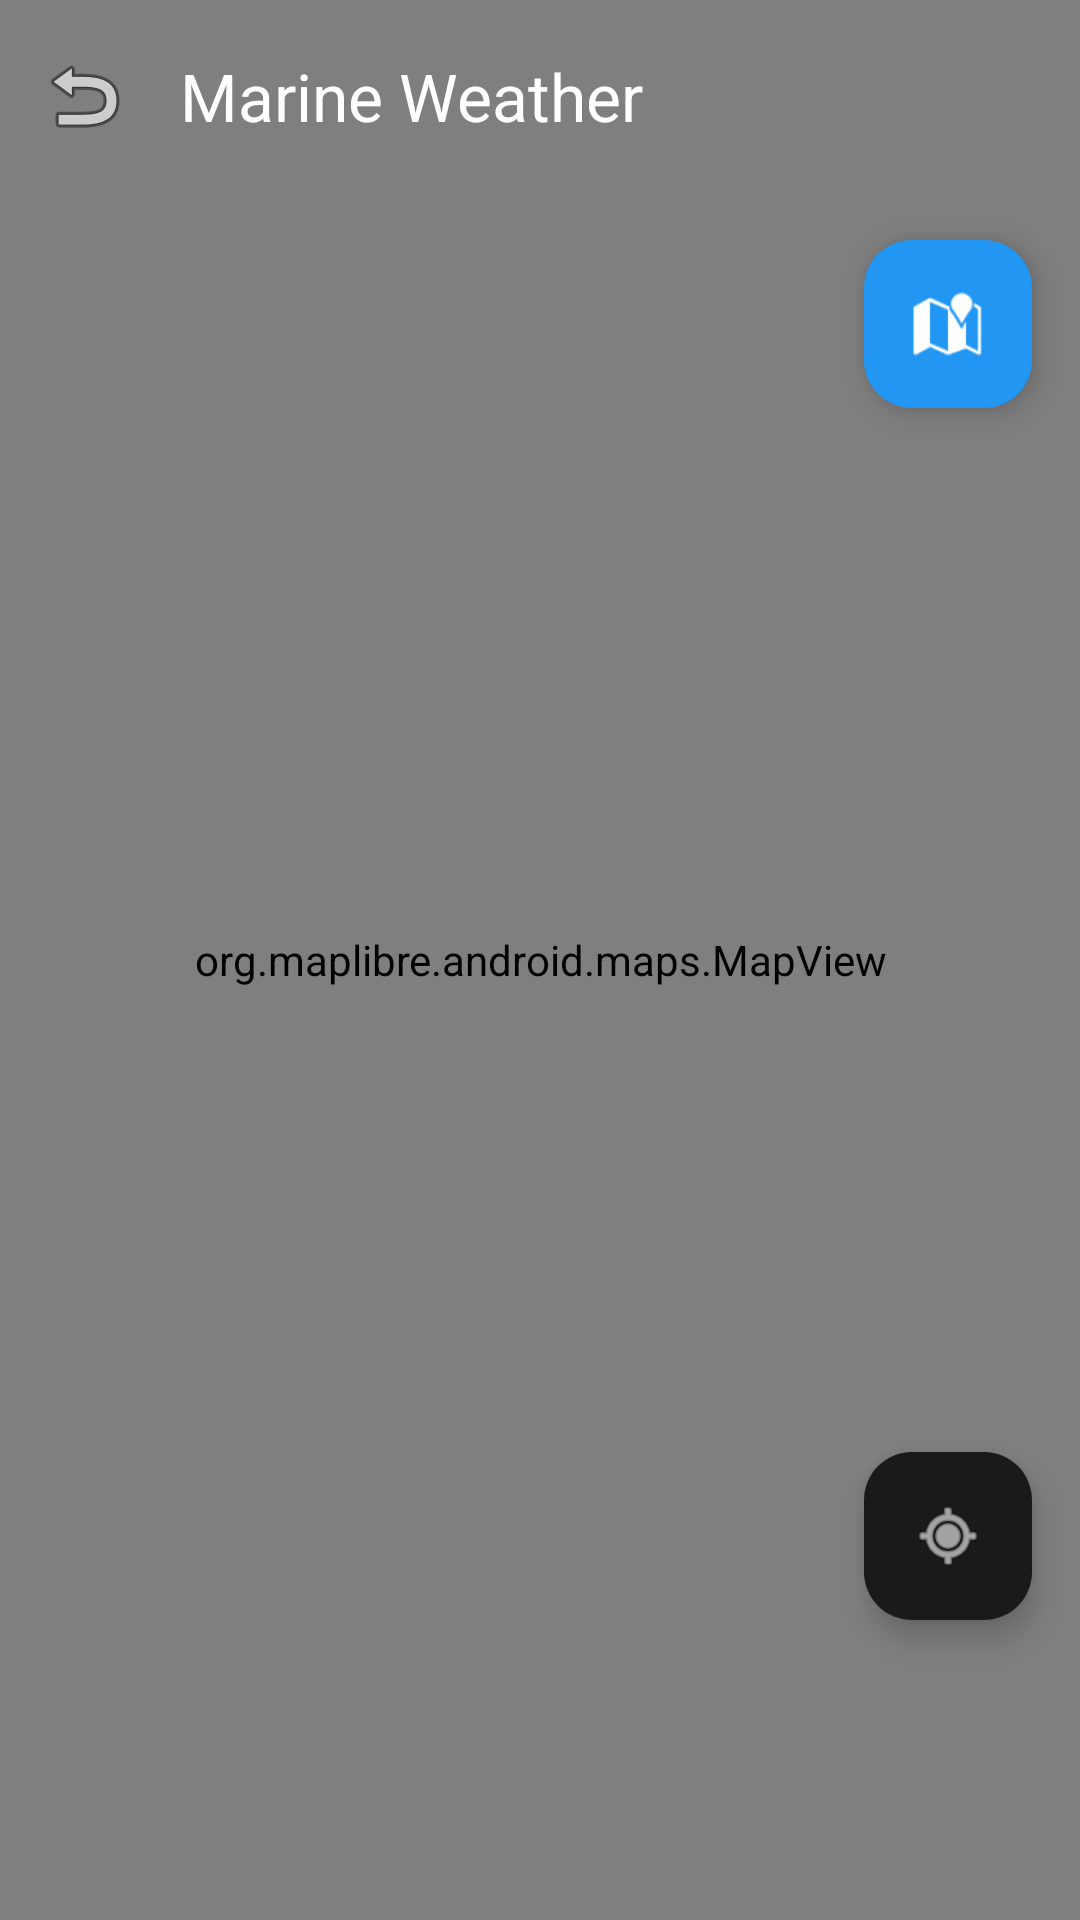

Named icons in this screenshot (1080*1920) and their bounding boxes, (x1, y1, x2, y2):
Layer Switcher: (864, 240, 1032, 408)
My Location: (864, 1452, 1032, 1620)
